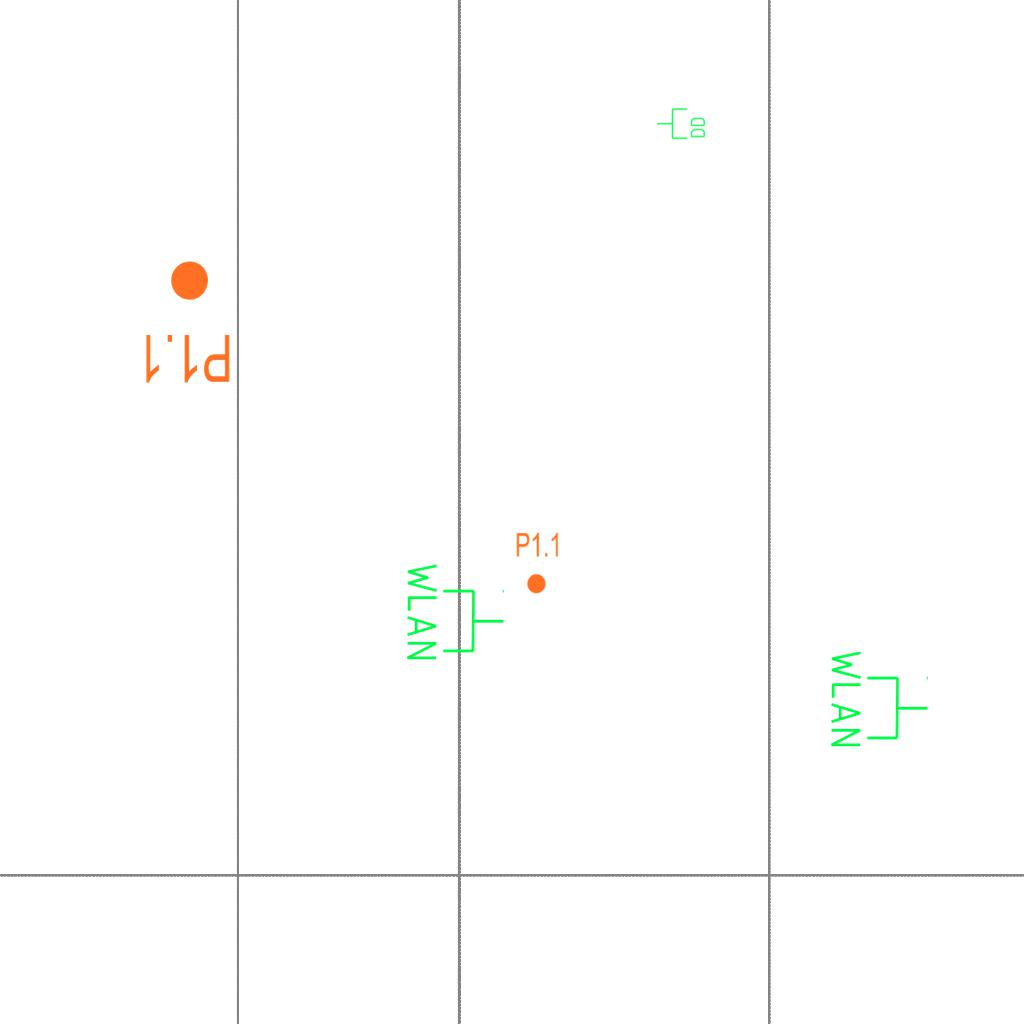Datenanschluss_zweifach: (656, 107, 707, 141)
Downlight_LED_Einbauleuchten_Flur: (140, 258, 233, 386), (515, 531, 561, 595)
WLAN: (403, 559, 507, 664), (827, 646, 931, 751)
